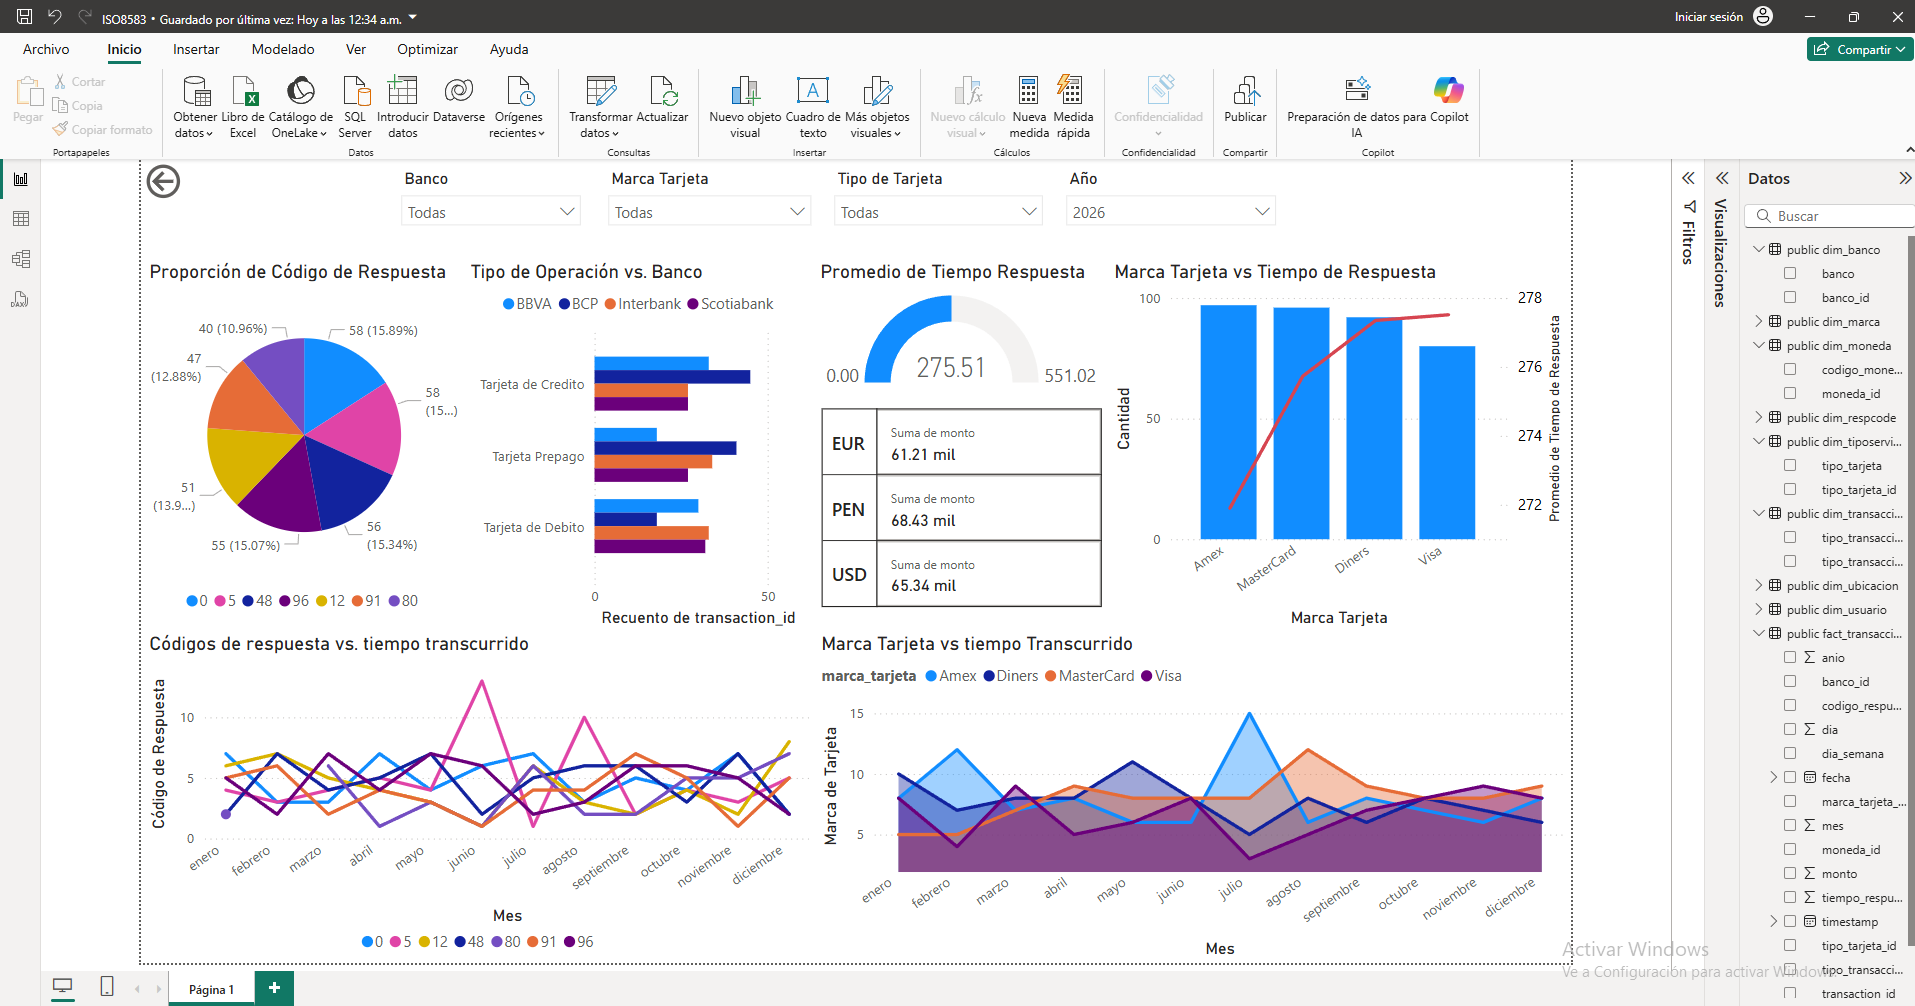

Layout of this report page (visuals, bound fields, positions):
{"tool":"powerbi","page":{"name":"Página 1","canvas":[1280,720],"ordinal":0},"visuals":[{"type":"pieChart","title":"Proporción de Código de Respuesta ","fields":{"Category":["public dim_respcode.codigo_respuesta"],"Y":["CountNonNull(public fact_transacciones.transaction_id)"]},"box":[3,90.3,286.9,324],"z":0},{"type":"slicer","fields":{"Values":["public dim_banco.banco"]},"box":[222.8,4.5,181.4,71],"z":1000},{"type":"slicer","fields":{"Values":["public dim_marca.marca_tarjeta"]},"box":[408.7,4.5,202.1,71],"z":2000},{"type":"slicer","fields":{"Values":["public dim_tiposervicio.tipo_tarjeta"]},"box":[610.8,4.5,207.5,71],"z":3000},{"type":"lineChart","title":"Códigos de respuesta vs. tiempo transcurrido","fields":{"Y":["CountNonNull(public fact_transacciones.transaction_id)"],"Series":["public dim_respcode.codigo_respuesta"],"Category":["public fact_transacciones.timestamp.Variación.Jerarquía de fechas.Mes"]},"box":[2.9,423.8,601.2,296.3],"z":4000},{"type":"slicer","fields":{"Values":["public fact_transacciones.anio"]},"box":[818.3,4.5,208.4,71],"z":5000},{"type":"lineClusteredColumnComboChart","title":"Marca Tarjeta vs Tiempo de Respuesta","fields":{"Y2":["Avg(public fact_transacciones.tiempo_respuesta)"],"Category":["public dim_marca.marca_tarjeta"],"Y":["CountNonNull(public fact_transacciones.transaction_id)"]},"box":[866.7,90.3,409.3,333],"z":6000},{"type":"gauge","title":"Promedio de Tiempo Respuesta","fields":{"Y":["Avg(public fact_transacciones.tiempo_respuesta)"]},"box":[603.9,90.3,261.8,127.4],"z":7000},{"type":"areaChart","title":"Marca Tarjeta vs tiempo Transcurrido","fields":{"Category":["public fact_transacciones.timestamp.Variación.Jerarquía de fechas.Mes"],"Y":["CountNonNull(public fact_transacciones.transaction_id)"],"Series":["public dim_marca.marca_tarjeta"]},"box":[604,423.8,676,296.3],"z":8000},{"type":"clusteredBarChart","title":"Tipo de Operación vs. Banco","fields":{"Y":["CountNonNull(public fact_transacciones.transaction_id)"],"Series":["public dim_banco.banco"],"Category":["public dim_tiposervicio.tipo_tarjeta"]},"box":[289.9,90.3,314,333],"z":9000},{"type":"actionButton","box":[0,0,100,40],"z":10000},{"type":"cardVisual","fields":{"Rows":["public dim_moneda.codigo_moneda"],"Data":["Sum(public fact_transacciones.monto)"]},"box":[604.9,203.6,261.8,219.7],"z":10001}]}

Visuals, with their boxes on the page's 1280x720 design canvas (x1, y1, x2, y2). These are canvas units, not pixel positions in the 1915x1006 screenshot, which may show the page scaled, cropped or inside an application window:
"Proporción de Código de Respuesta " pieChart: left=3, top=90, right=290, bottom=414
slicer - public dim_banco.banco: left=223, top=4, right=404, bottom=76
slicer - public dim_marca.marca_tarjeta: left=409, top=4, right=611, bottom=76
slicer - public dim_tiposervicio.tipo_tarjeta: left=611, top=4, right=818, bottom=76
"Códigos de respuesta vs. tiempo transcurrido" lineChart: left=3, top=424, right=604, bottom=720
slicer - public fact_transacciones.anio: left=818, top=4, right=1027, bottom=76
"Marca Tarjeta vs Tiempo de Respuesta" lineClusteredColumnComboChart: left=867, top=90, right=1276, bottom=423
"Promedio de Tiempo Respuesta" gauge: left=604, top=90, right=866, bottom=218
"Marca Tarjeta vs tiempo Transcurrido" areaChart: left=604, top=424, right=1280, bottom=720
"Tipo de Operación vs. Banco" clusteredBarChart: left=290, top=90, right=604, bottom=423
actionButton: left=0, top=0, right=100, bottom=40
cardVisual - public dim_moneda.codigo_moneda x Sum(public fact_transacciones.monto): left=605, top=204, right=867, bottom=423
